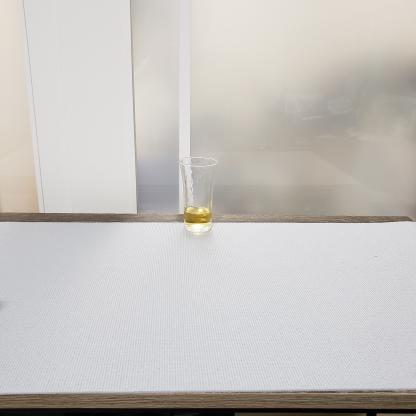glass: (176, 154, 227, 244)
